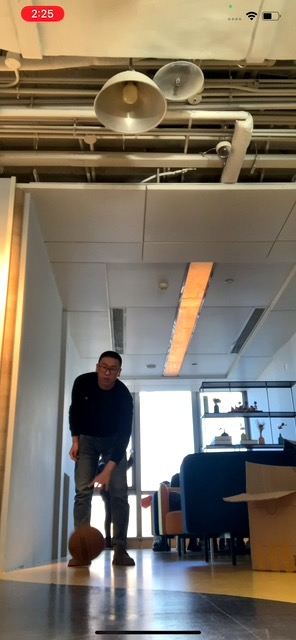ball: (66, 526, 106, 560)
